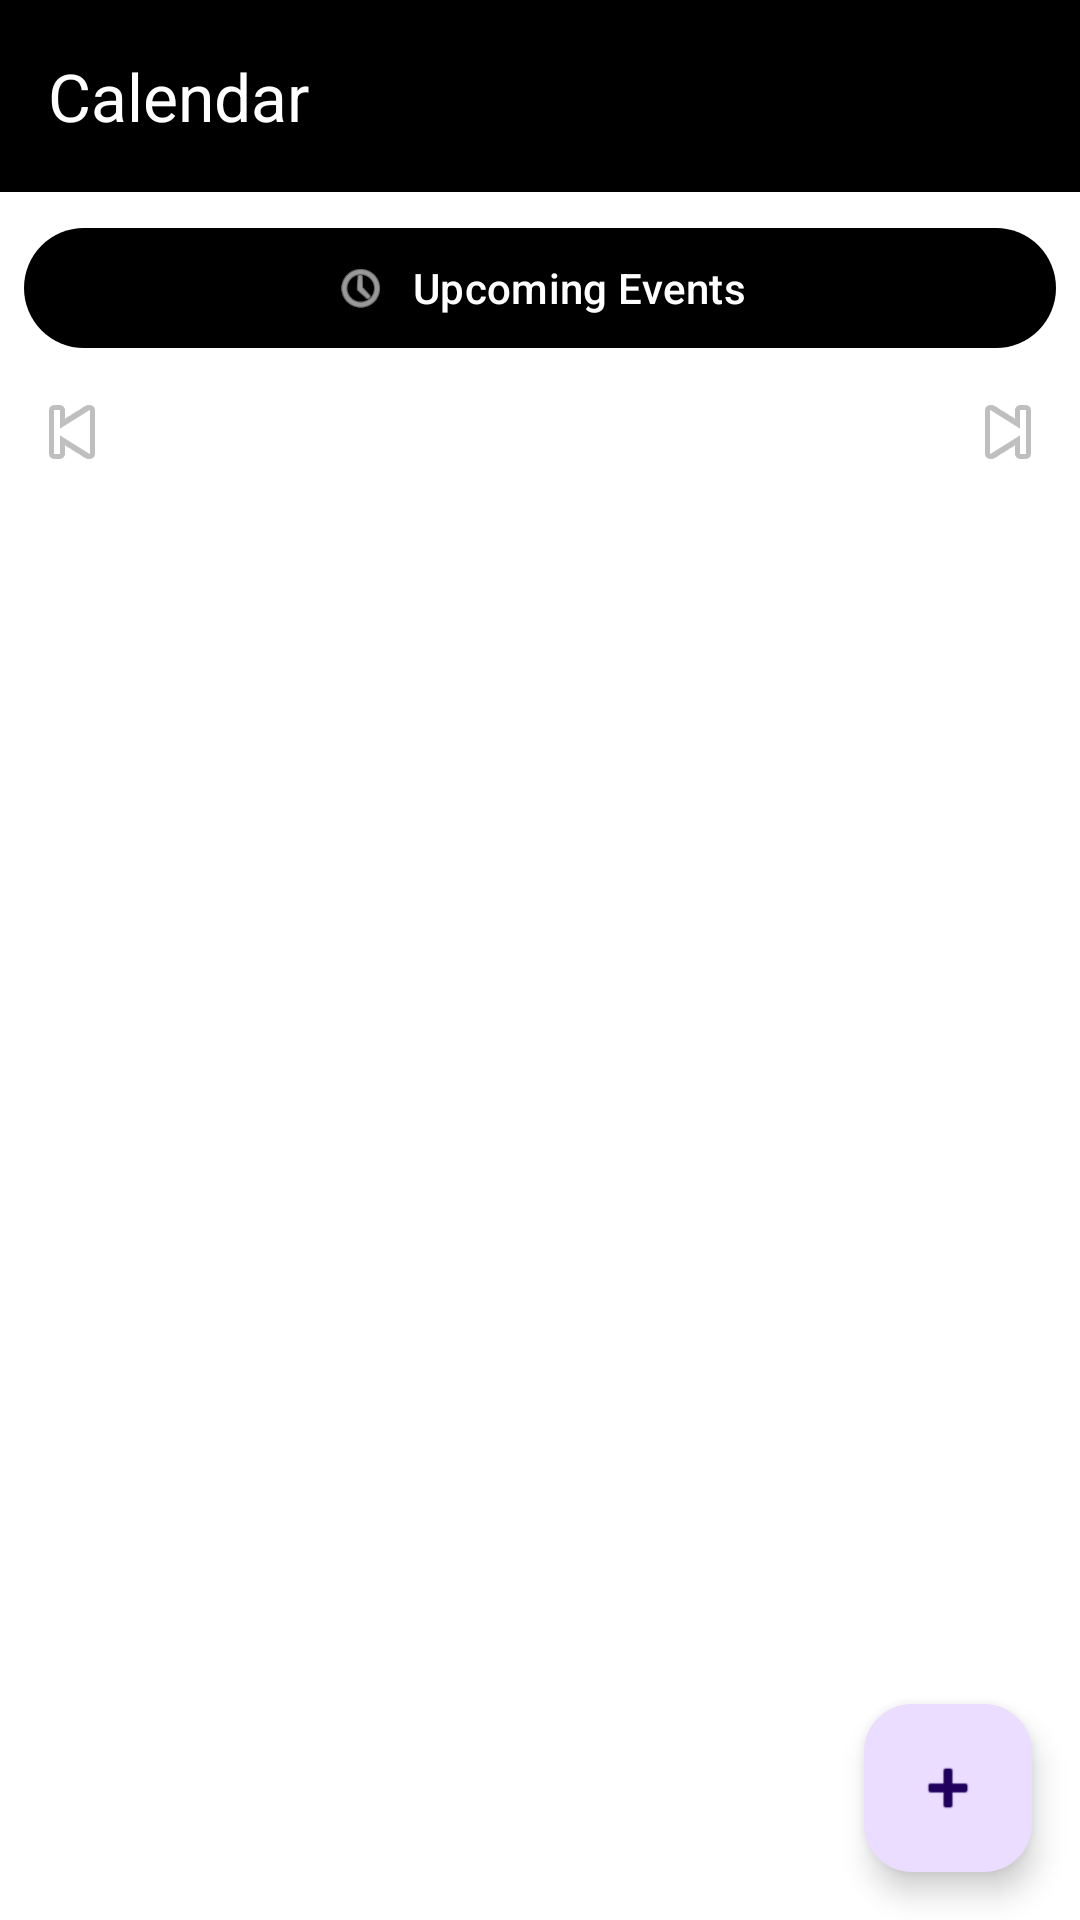

Screen size 1080w x 1920h. Icon name, then its center in pixels as (x,y):
Add event: (948,1788)
Next month: (1008,432)
Previous month: (72,432)
